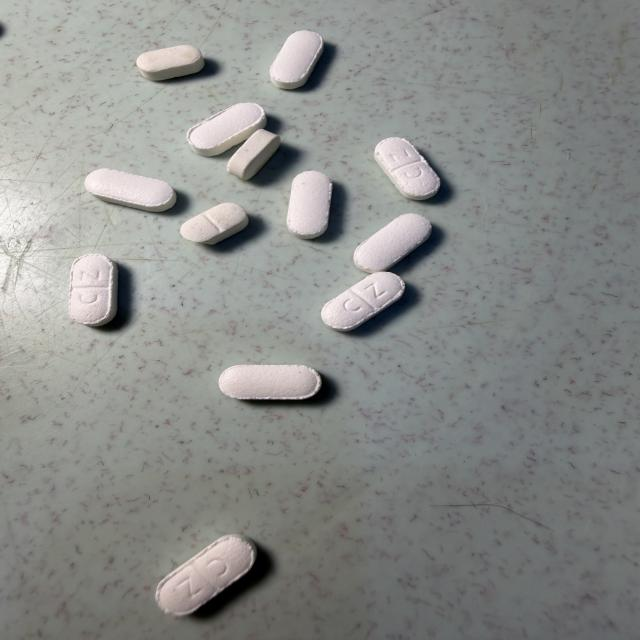pill: (156, 535, 256, 615), (322, 272, 404, 331), (354, 214, 431, 272), (187, 103, 266, 156), (375, 138, 440, 199), (85, 169, 176, 211), (219, 365, 321, 399), (69, 254, 117, 326), (270, 31, 323, 89), (287, 171, 332, 238), (181, 203, 248, 244), (228, 129, 280, 179), (137, 45, 204, 80)
